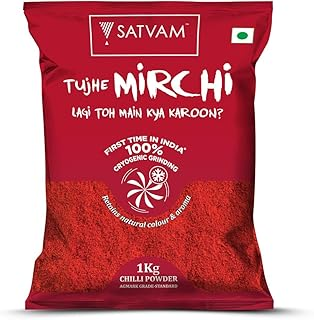Chilli Powder: (22, 1, 297, 317)
